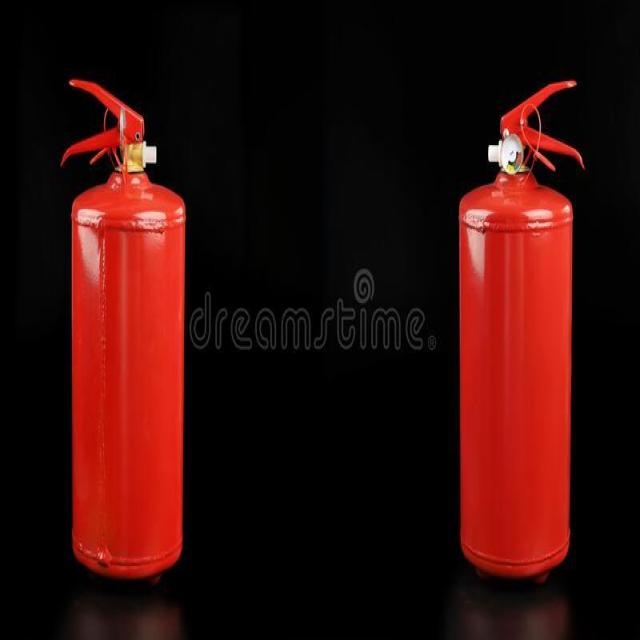fire_extinguisher: (55, 70, 193, 594), (450, 73, 589, 593)
